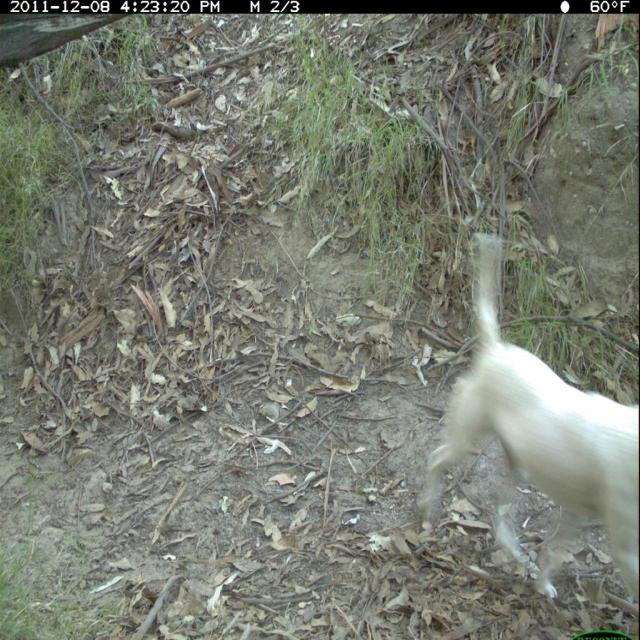dog: (410, 223, 639, 614)
